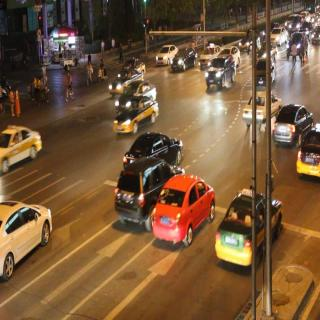Car: (218, 170, 282, 281), (106, 160, 196, 228), (0, 186, 53, 292), (158, 165, 216, 258), (0, 111, 49, 178), (267, 93, 314, 154), (118, 131, 189, 165), (239, 80, 280, 130), (114, 98, 167, 134), (294, 129, 320, 187), (206, 52, 239, 94), (118, 66, 154, 94), (253, 59, 284, 90), (285, 32, 314, 64), (220, 36, 245, 72), (194, 39, 227, 64), (174, 46, 199, 78), (149, 46, 182, 70), (265, 23, 290, 49)
